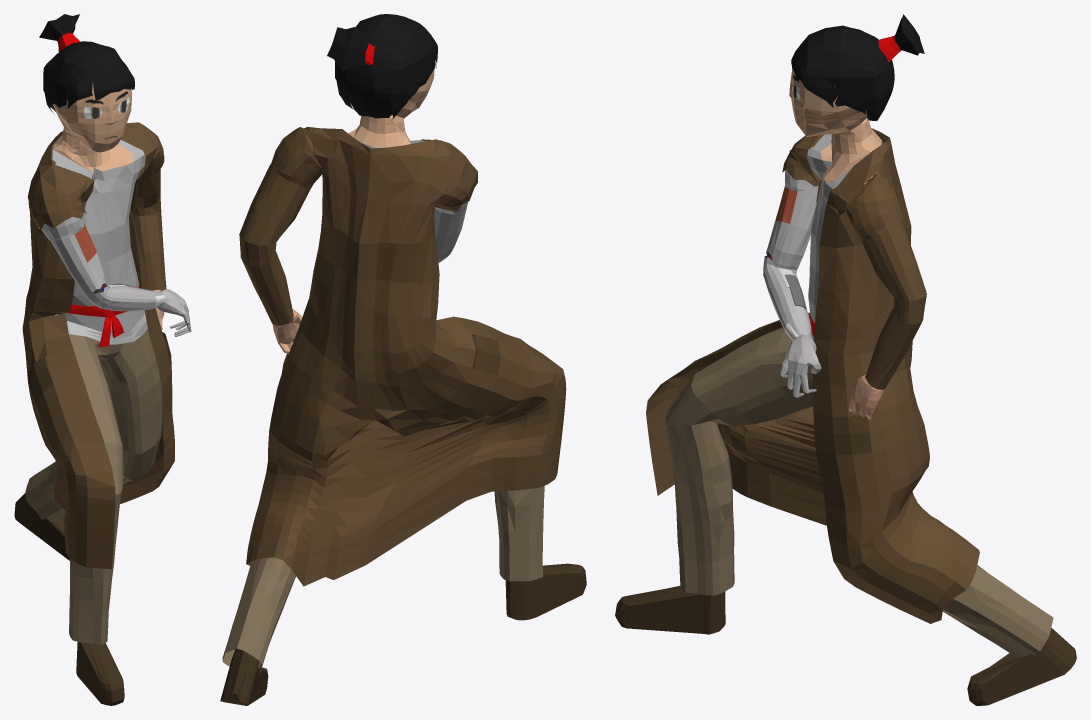
File: One_DL_000002.obj
3 views of the same model, side by side, from view 1: azimuth 30°, elevation 25°; view 2: azimuth 150°, elevation 25°; view 3: azimuth 270°, elevation 25° (orthographic). The views are drawn at different scales.
Visible parts, largest first — view 1: Hair_Cube.004; view 2: Hair_Cube.004; view 3: Hair_Cube.004.
Boxes of the visible parts, x1,y1,x2,y2 form: Hair_Cube.004: (14, 14, 191, 705); Hair_Cube.004: (220, 14, 586, 705); Hair_Cube.004: (615, 14, 1076, 705).
Bounding box in the file's own units: 1.19 × 3.56 × 2.27.
